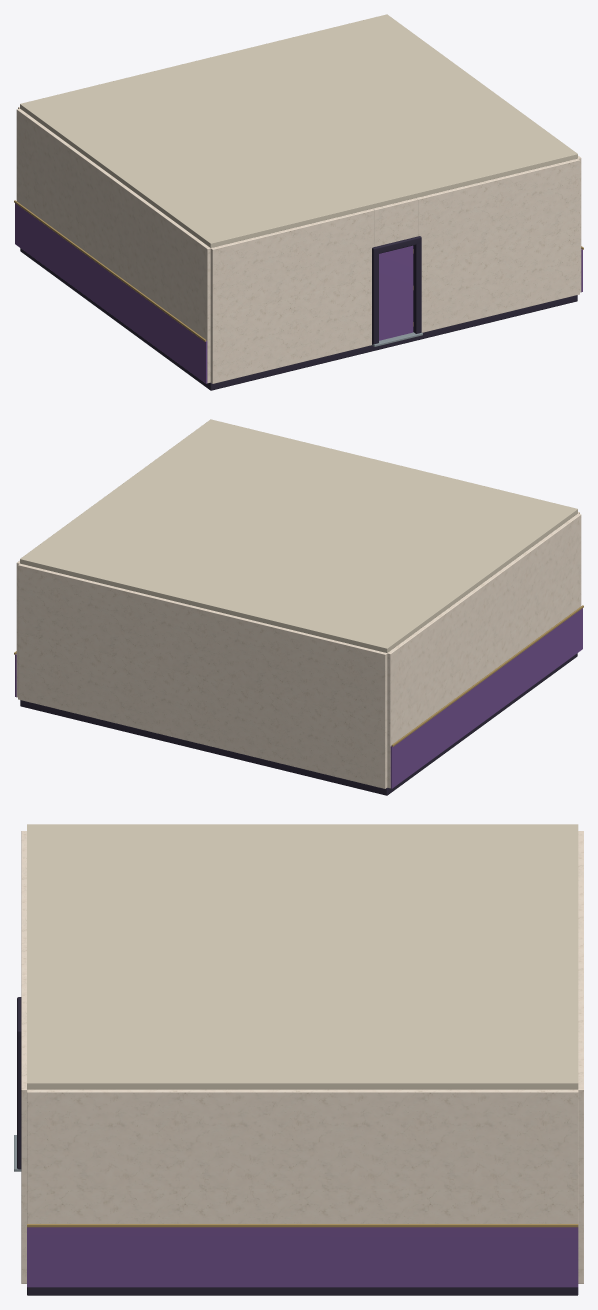
The model's file is mirror_workbay.glb.
3 views of the same model, one above another, from view 1: azimuth 30°, elevation 25°; view 2: azimuth 150°, elevation 25°; view 3: azimuth 270°, elevation 25° (orthographic). The views are drawn at different scales.
Parts seen in each view (by area): view 1: ceiling.017, wall.045, wall.044, wall.047, lower_panel.046, mirror_workbay_floor, front.021_leaf, door_lintel.011, front.021_jamb, panel_rail.046, front.021_jamb.001; view 2: ceiling.017, wall.046, wall.047, lower_panel.046, mirror_workbay_floor, panel_rail.046; view 3: ceiling.017, wall.048, lower_panel.047, mirror_workbay_floor, wall.046, panel_rail.047, wall.044, wall.045, front.021_jamb.
Part boxes in pixels (x1,y1,x2,y2): ceiling.017: (20,14,577,247); wall.045: (210,208,374,383); wall.044: (416,158,579,332); wall.047: (16,108,210,383); lower_panel.046: (15,203,207,383); mirror_workbay_floor: (20,248,577,390); front.021_leaf: (379,245,413,340); door_lintel.011: (373,198,417,246); front.021_jamb: (413,240,421,333); panel_rail.046: (14,200,206,341); front.021_jamb.001: (372,251,378,344); ceiling.017: (20,419,577,652); wall.046: (18,563,387,788); wall.047: (387,513,581,788); lower_panel.046: (390,608,582,788); mirror_workbay_floor: (20,653,577,795); panel_rail.046: (391,605,583,746); ceiling.017: (27,824,578,1089); wall.048: (27,1089,578,1223); lower_panel.047: (27,1227,578,1287); mirror_workbay_floor: (27,1287,578,1295); wall.046: (578,831,583,1283); panel_rail.047: (27,1224,578,1227); wall.044: (21,975,26,1283); wall.045: (21,831,26,945); front.021_jamb: (17,1036,21,1169).
Bounding box in the file's own units: 10.32 × 3.84 × 9.3.
Materials: 9 (2 with a texture image).
